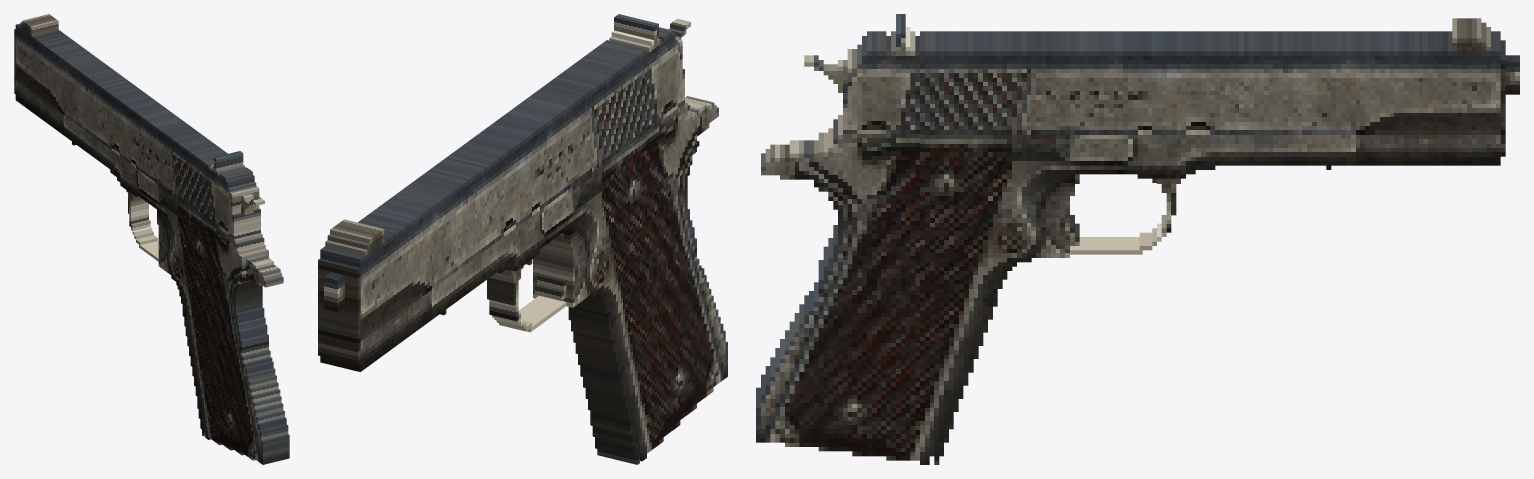
3 views of the same model, side by side, from view 1: azimuth 30°, elevation 25°; view 2: azimuth 150°, elevation 25°; view 3: azimuth 270°, elevation 25° (orthographic). The views are drawn at different scales.
Visible parts, largest first — view 1: pxArt; view 2: pxArt; view 3: pxArt.
Boxes of the visible parts, x1=… form: pxArt: x1=14, y1=14, x2=289, y2=464; pxArt: x1=318, y1=14, x2=727, y2=464; pxArt: x1=756, y1=14, x2=1519, y2=464.
Size of the model in its own units: 0.038 by 0.3853 by 0.6187.
Materials: 1 (1 with a texture image).
